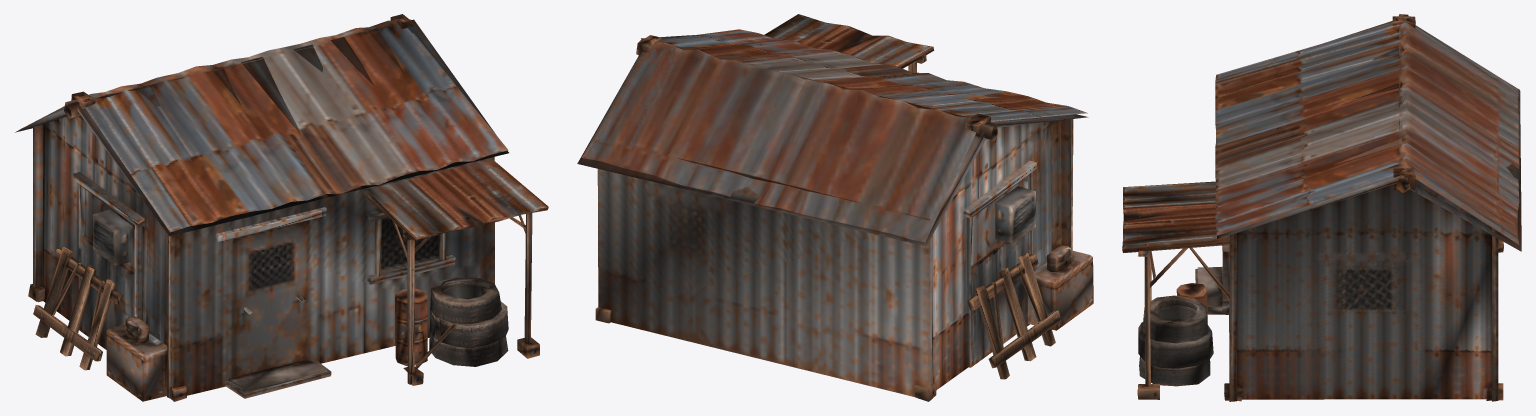
The model's file is Meshy_AI_Rusty_Tin_Shack_0910090216_texture.fbx.
The picture shows the model from 3 angles, left to right: view 1: azimuth 30°, elevation 25°; view 2: azimuth 150°, elevation 25°; view 3: azimuth 270°, elevation 25°; orthographic projection. The views are drawn at different scales.
Parts seen in each view (by area): view 1: Mesh_0; view 2: Mesh_0; view 3: Mesh_0.
Part boxes in pixels (left/top/right/bottom): Mesh_0: left=15, top=14, right=548, bottom=401; Mesh_0: left=577, top=14, right=1093, bottom=401; Mesh_0: left=1122, top=14, right=1521, bottom=401.
Bounding box in the file's own units: 100 × 62.5 × 97.27.
Materials: 1 (1 with a texture image).
